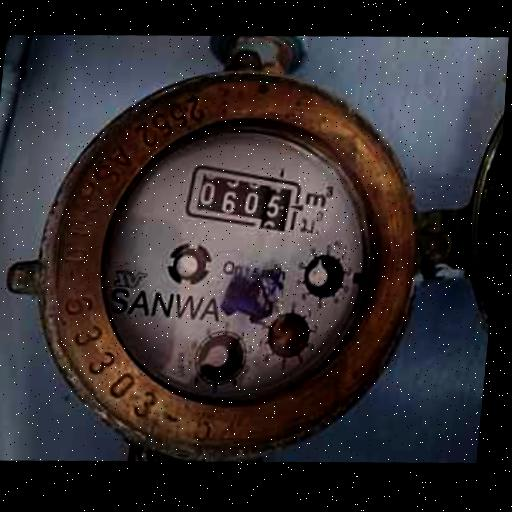0: (238, 180, 269, 220), (195, 172, 223, 212)
5: (259, 183, 293, 231)
6: (215, 176, 245, 217)
border_water_meter_number: (179, 160, 307, 237)
